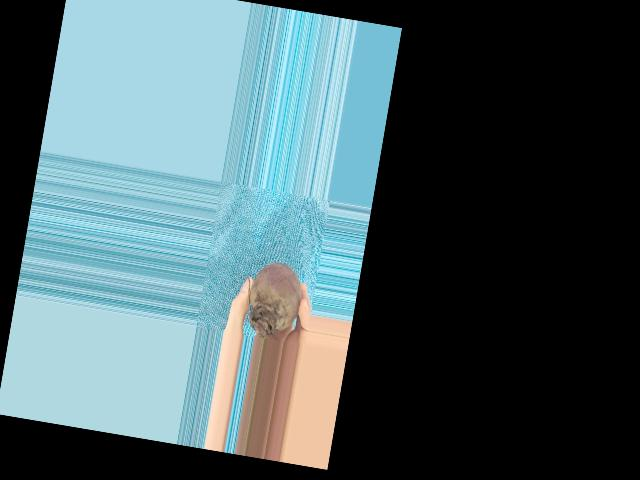beet: (236, 257, 306, 342)
